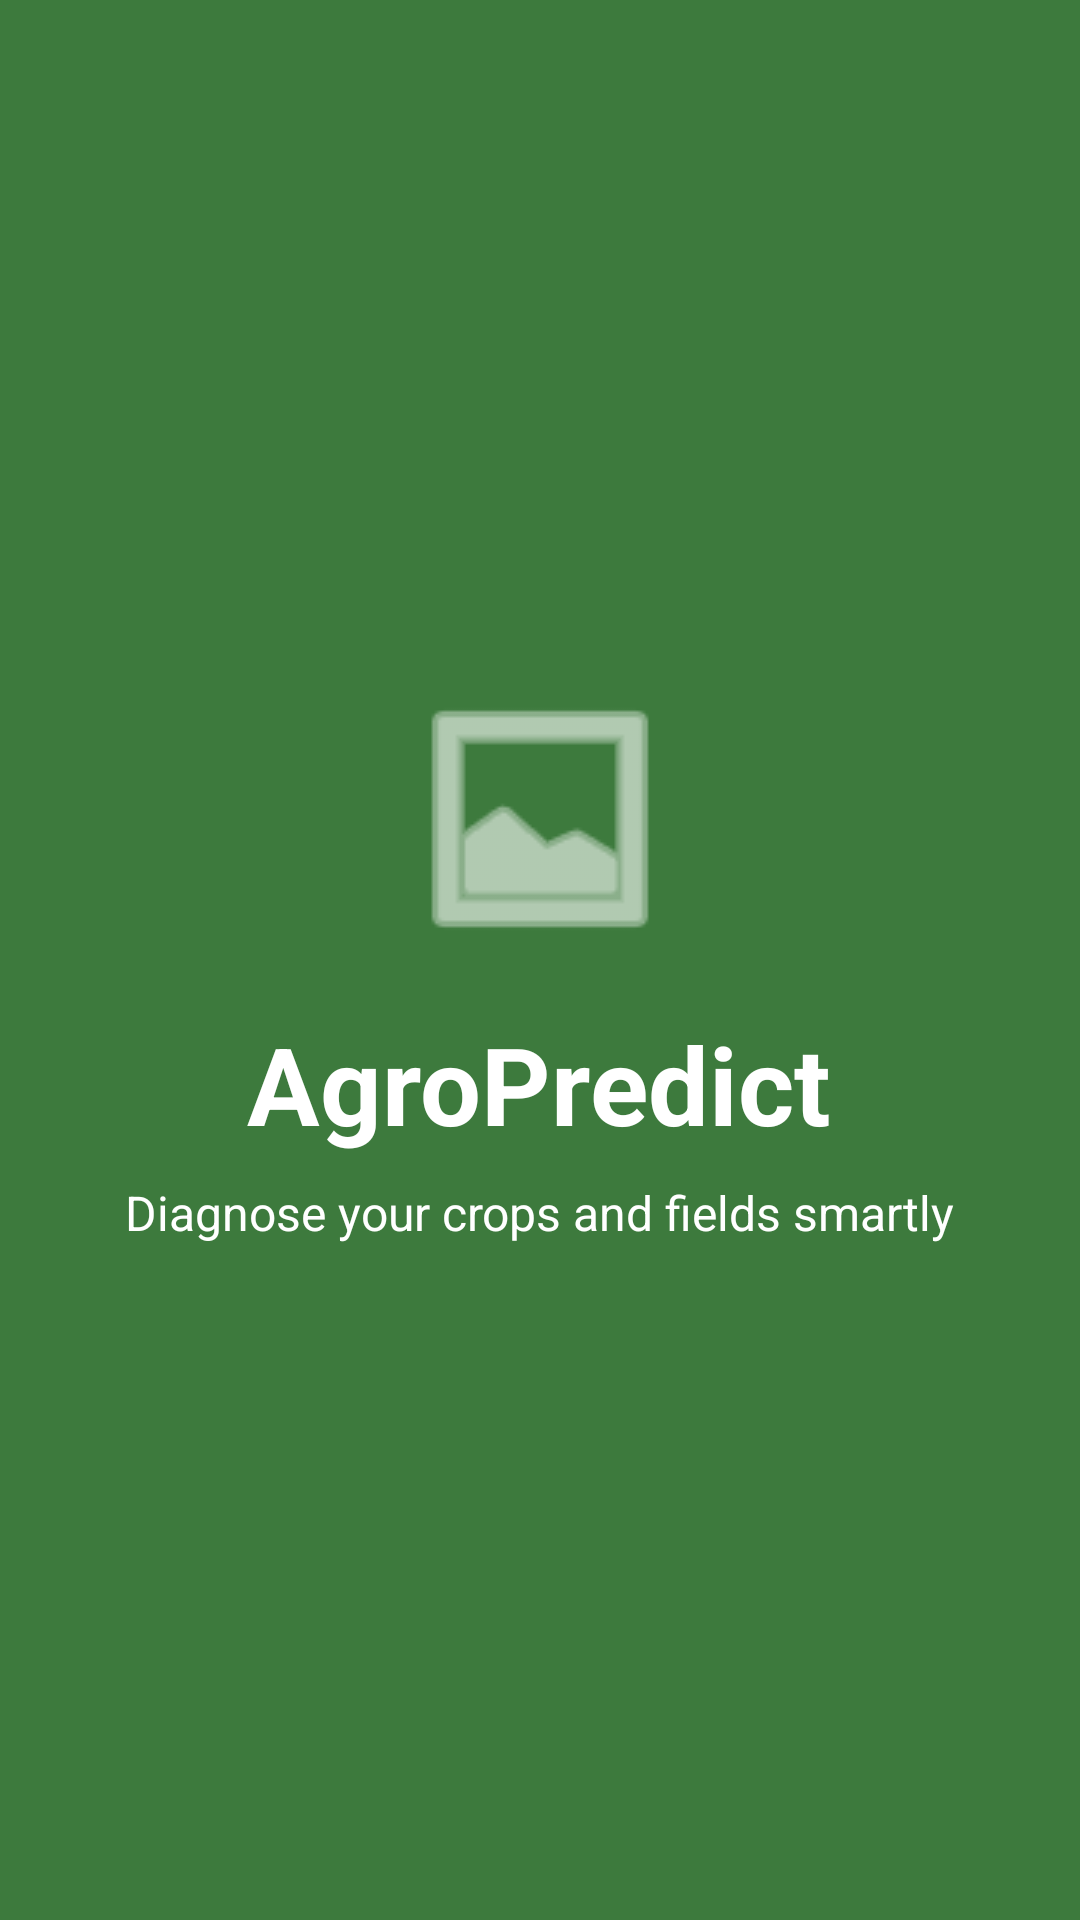

Screen size 1080*1920. Icon name, then its center in pixels as (x,y):
gallery: (540,819)
